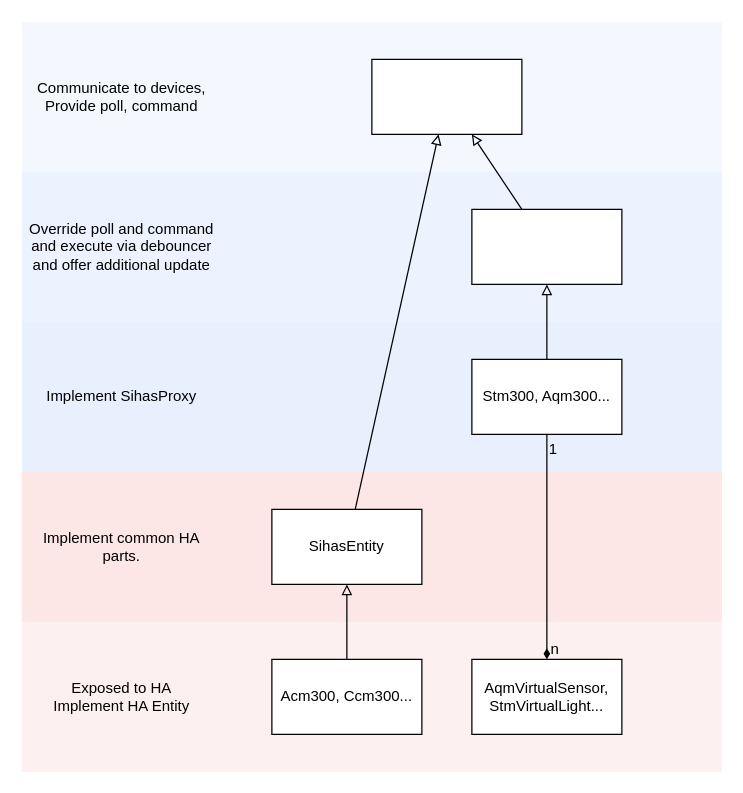
Image size: 743x793. Some labels were removed from this diagram. The shapes that lost their labels are listed below. From the top down, each one's centre as x and y in pixels, then its label:
At (x=446, y=96): "SihasBase".
At (x=546, y=246): "SihasProxy".
